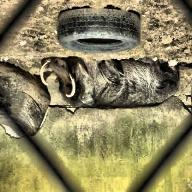boar: (43, 55, 179, 115)
